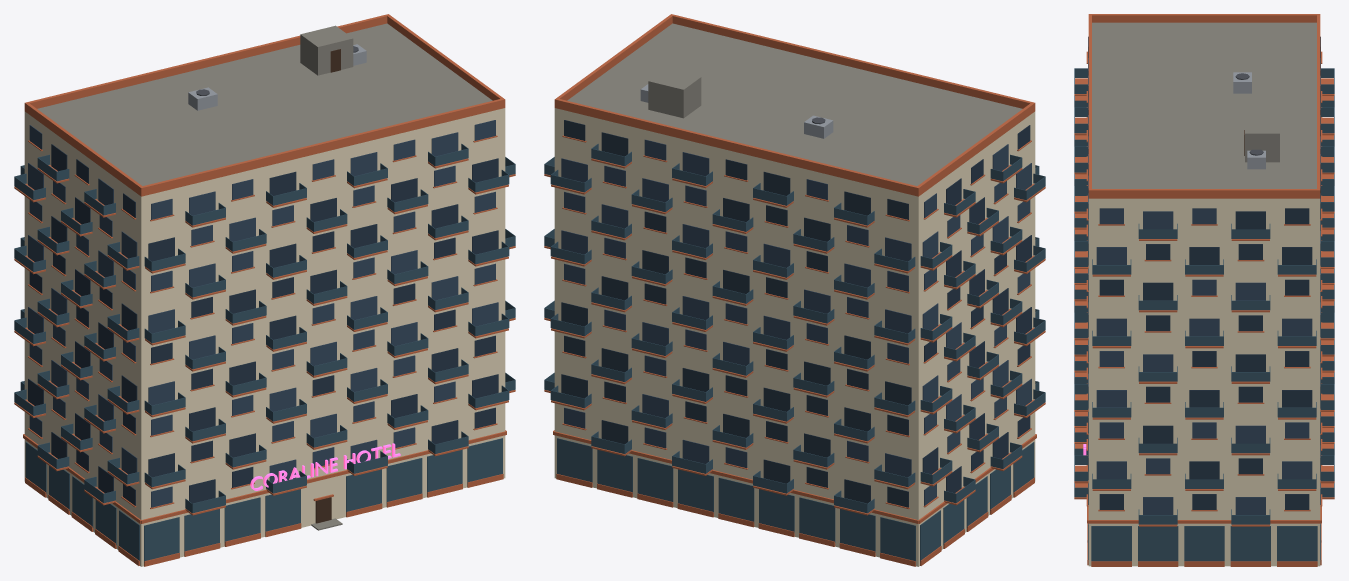
File: hotel.glb
The picture shows the model from 3 angles, left to right: view 1: azimuth 30°, elevation 25°; view 2: azimuth 150°, elevation 25°; view 3: azimuth 270°, elevation 25°; orthographic projection.
Visible parts, largest first — view 1: hotel; view 2: hotel; view 3: hotel.
Boxes of the visible parts, <box> form: hotel: <box>14,14,515,566</box>; hotel: <box>544,14,1045,566</box>; hotel: <box>1074,14,1334,566</box>.
Size of what is drawn, in the model's own units: 38.48 by 37.8 by 22.48.
